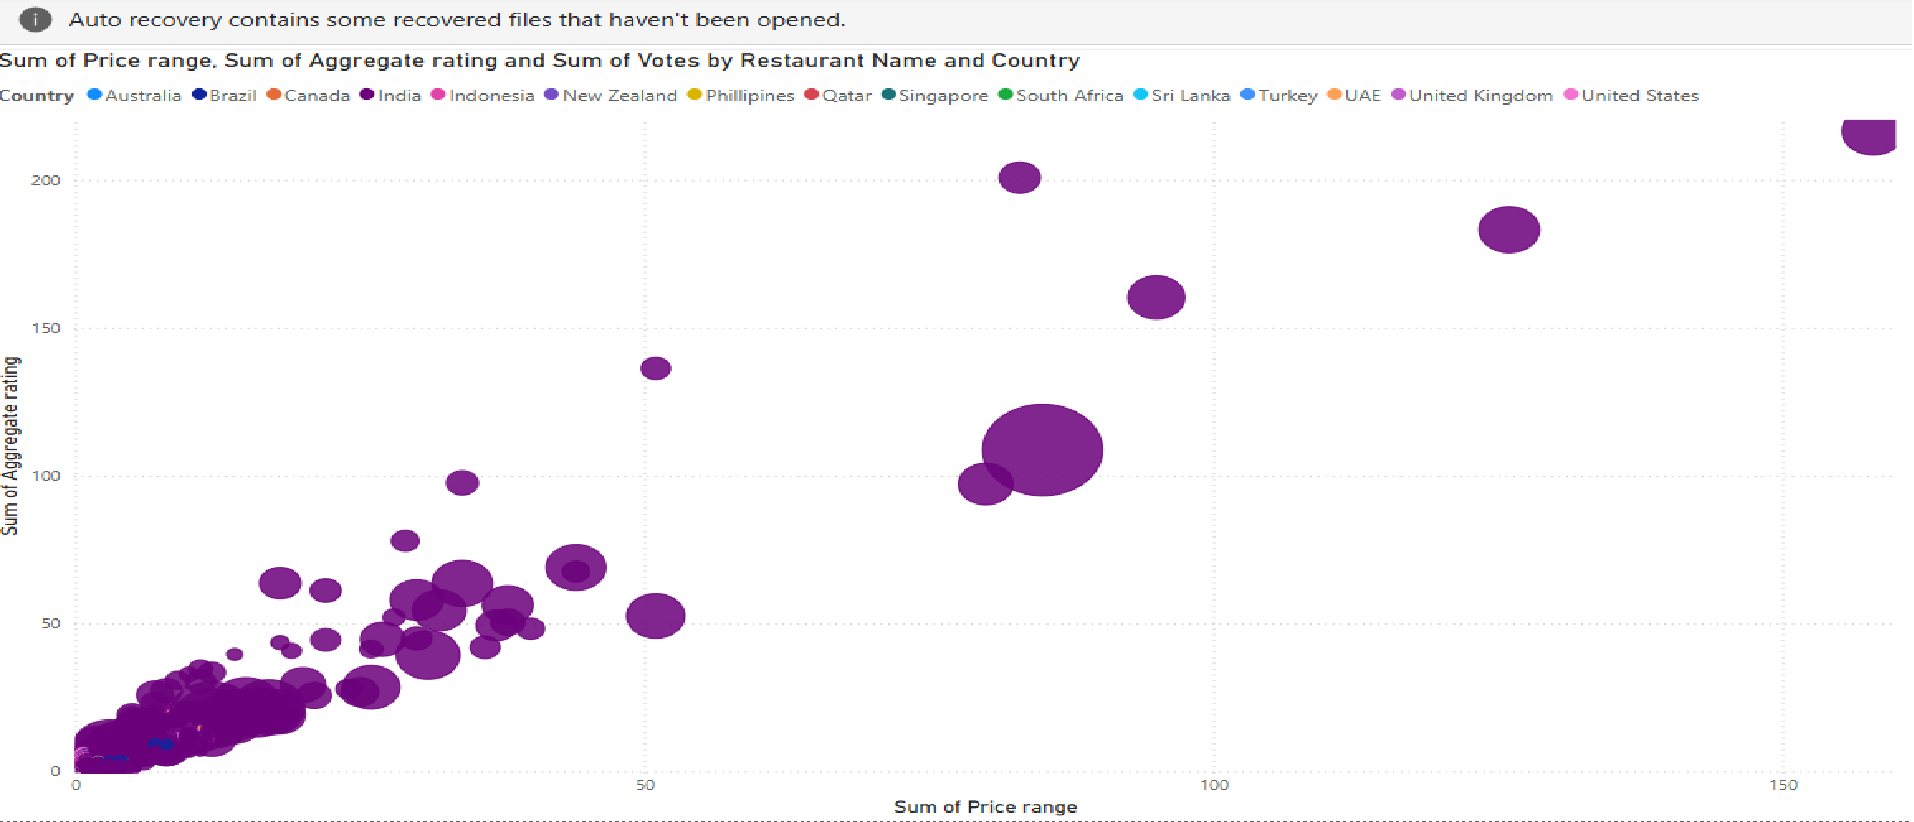

Layout of this report page (visuals, bound fields, positions):
{"tool":"powerbi","page":{"name":"Page 2","canvas":[1280,720],"ordinal":1},"visuals":[{"type":"scatterChart","fields":{"X":["Sum(Sheet1.Price range)"],"Y":["Sum(Sheet1.Aggregate rating)"],"Category":["Sheet1.Restaurant Name"],"Series":["Sheet1.Country"],"Size":["Sum(Sheet1.Votes)"]},"box":[0,48,1280.3,672.4],"z":0}]}

Visuals, with their boxes on the page's 1280x720 design canvas (x1, y1, x2, y2). These are canvas units, not pixel positions in the 1914x822 screenshot, which may show the page scaled, cropped or inside an application window:
scatterChart - Sum(Sheet1.Price range) x Sum(Sheet1.Aggregate rating): box=[0, 48, 1280, 720]
